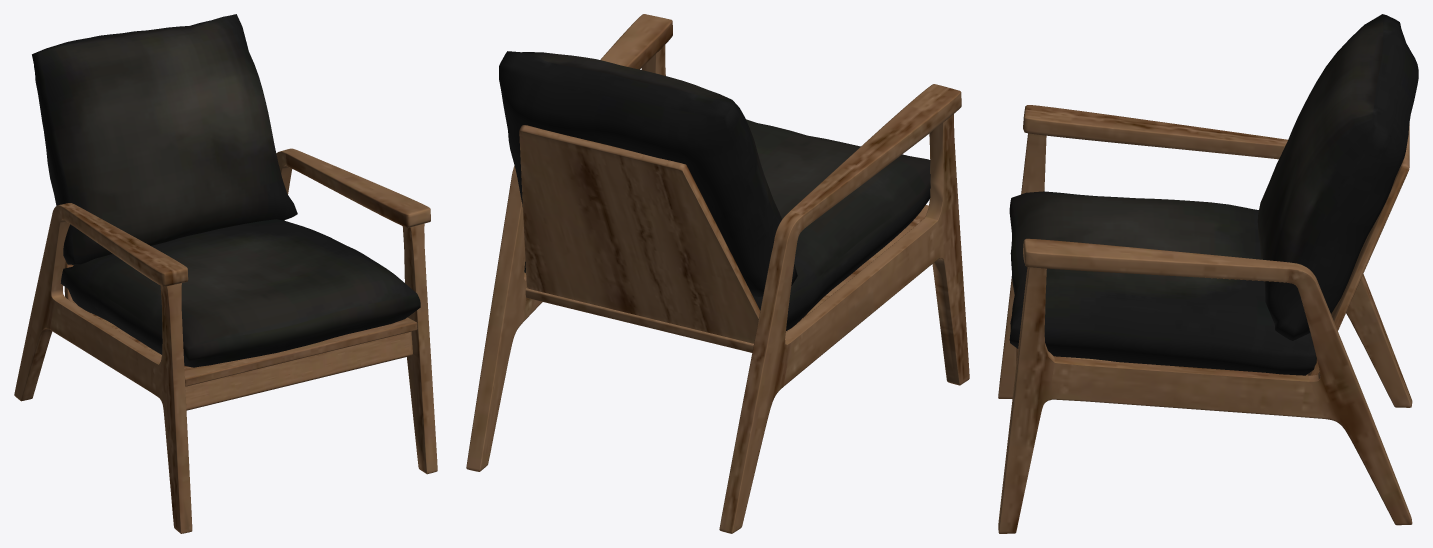
The model's file is modern_arm_chair_01.glb.
3 renders of one model, left to right at view 1: azimuth 30°, elevation 25°; view 2: azimuth 150°, elevation 25°; view 3: azimuth 270°, elevation 25°, orthographic. The views are drawn at different scales.
Parts seen in each view (by area): view 1: modern_arm_chair_01; view 2: modern_arm_chair_01; view 3: modern_arm_chair_01.
Boxes of the visible parts, box(x1,y1,x2,y2) form: modern_arm_chair_01: box(14, 14, 437, 533); modern_arm_chair_01: box(466, 14, 969, 533); modern_arm_chair_01: box(998, 14, 1418, 533).
Bounding box in the file's own units: 0.8203 × 1.02 × 0.9865.
2 materials, 2 textured.
